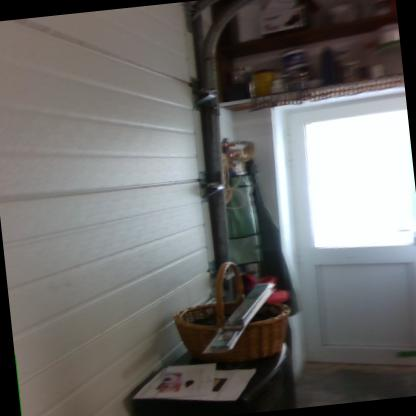closed: (257, 87, 415, 385)
